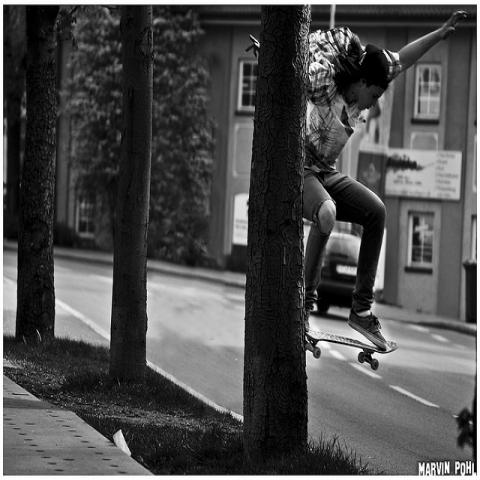car: (303, 223, 363, 313)
